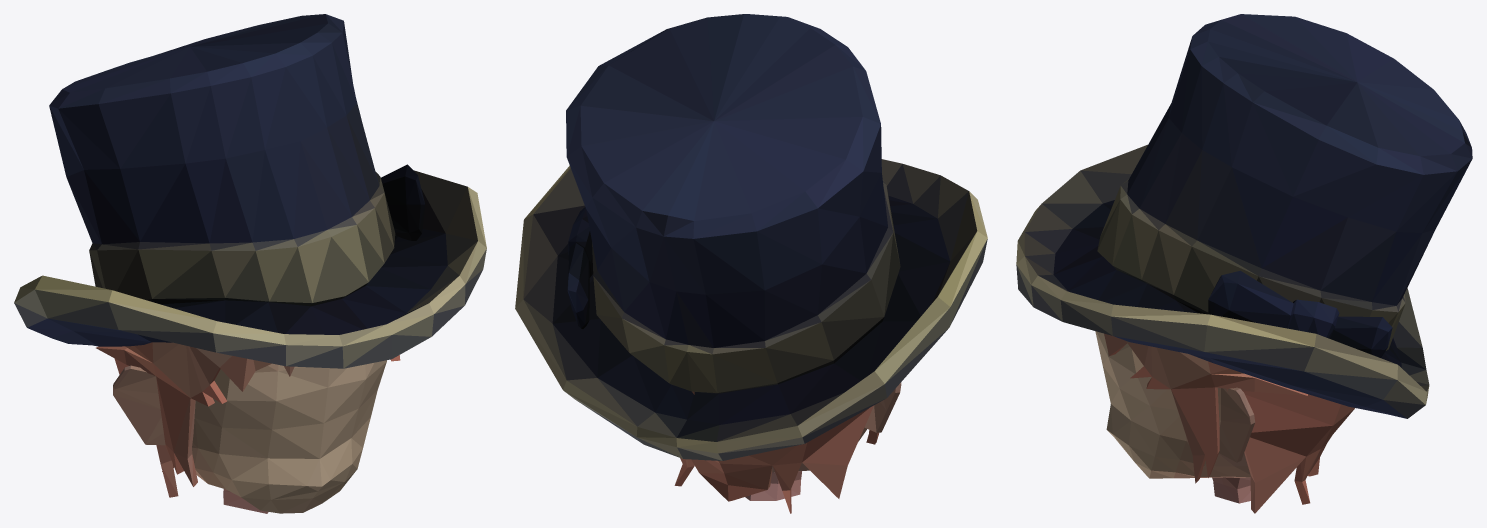
File: helm_lightskin_spike_blonde_tophat.fbx
3 views of the same model, side by side, from view 1: azimuth 30°, elevation 25°; view 2: azimuth 150°, elevation 25°; view 3: azimuth 270°, elevation 25° (orthographic).
Parts seen in each view (by area): view 1: helm_lightskin_spike_blonde_tophat; view 2: helm_lightskin_spike_blonde_tophat; view 3: helm_lightskin_spike_blonde_tophat.
Part boxes in pixels (box(x1,y1,x2,y2)): helm_lightskin_spike_blonde_tophat: box(14, 14, 486, 513); helm_lightskin_spike_blonde_tophat: box(515, 14, 987, 513); helm_lightskin_spike_blonde_tophat: box(1016, 14, 1472, 513).
Size of the model in its own units: 1.67 by 1.82 by 1.64.
